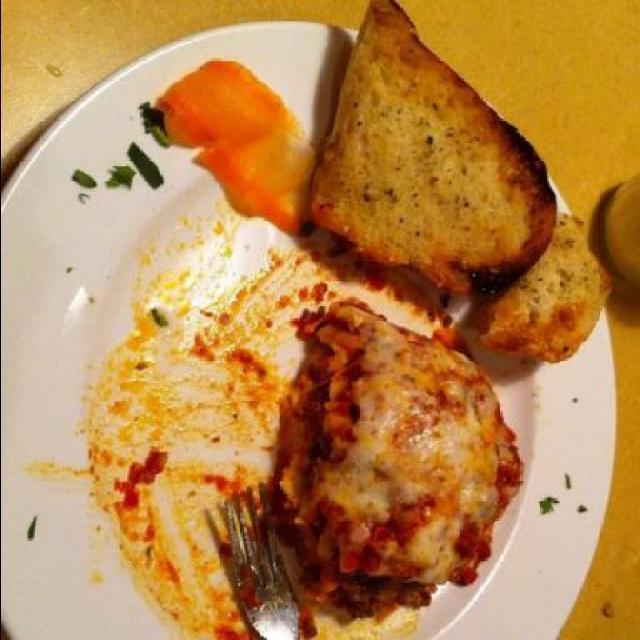Lasagna: (278, 328, 514, 600)
